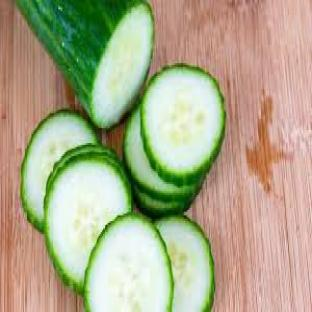Cucumber: (45, 153, 133, 293), (141, 65, 225, 185), (21, 110, 98, 232), (85, 214, 173, 311), (123, 108, 197, 202), (155, 218, 215, 311), (46, 143, 118, 189), (133, 184, 192, 217)
